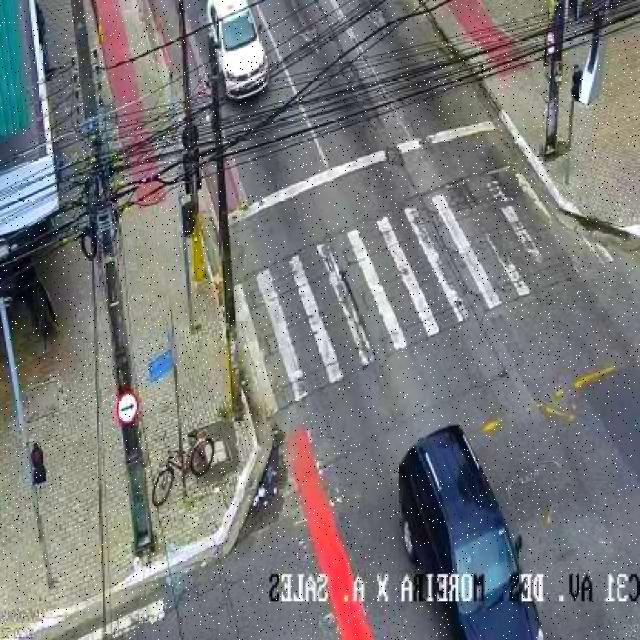Car: (392, 426, 546, 640), (208, 0, 271, 111)
Cycle: (146, 432, 218, 508)
